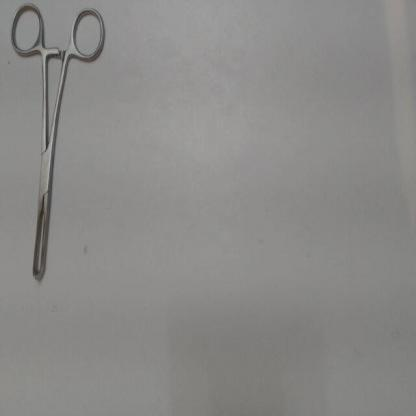Allis Tissue Forceps: (6, 0, 113, 289)
